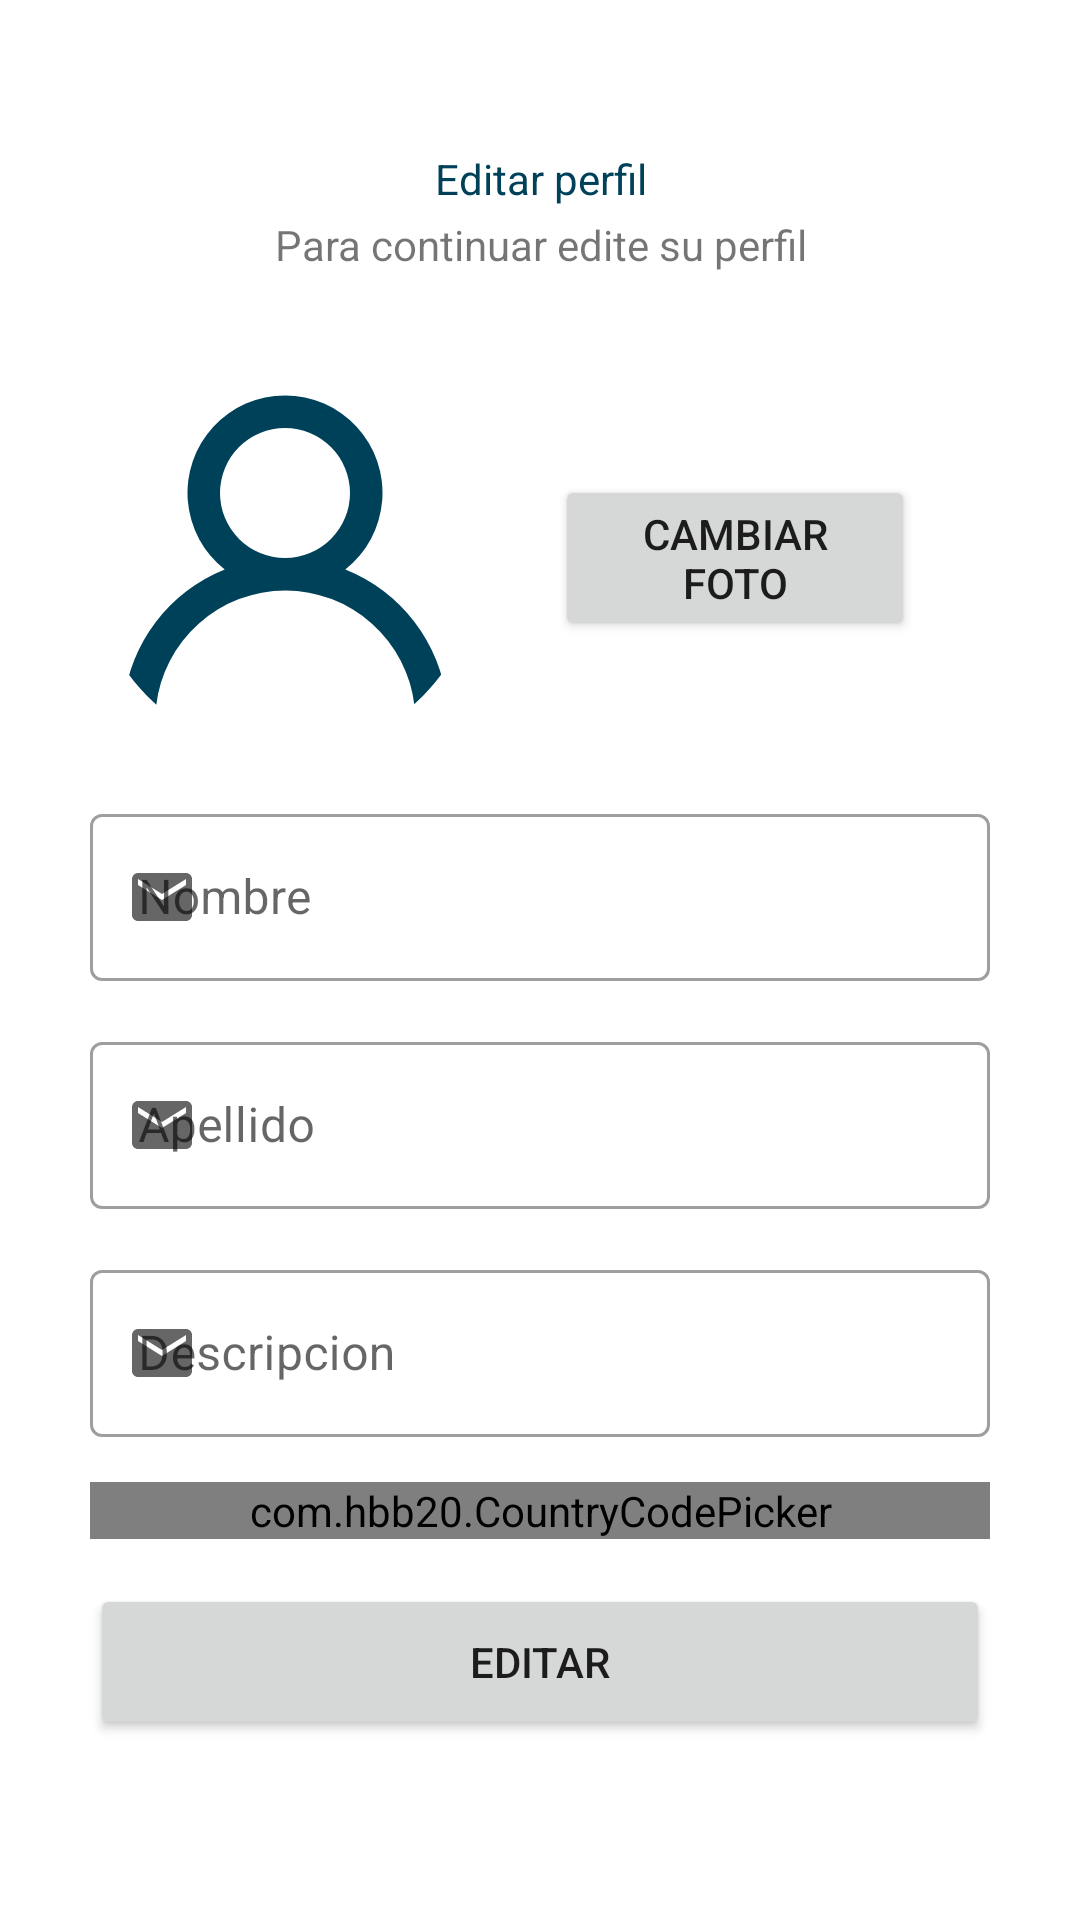

Named icons in this screenshot (1080px x 1920px) and their centers, point (x, y):
cuenta: point (285, 550)
